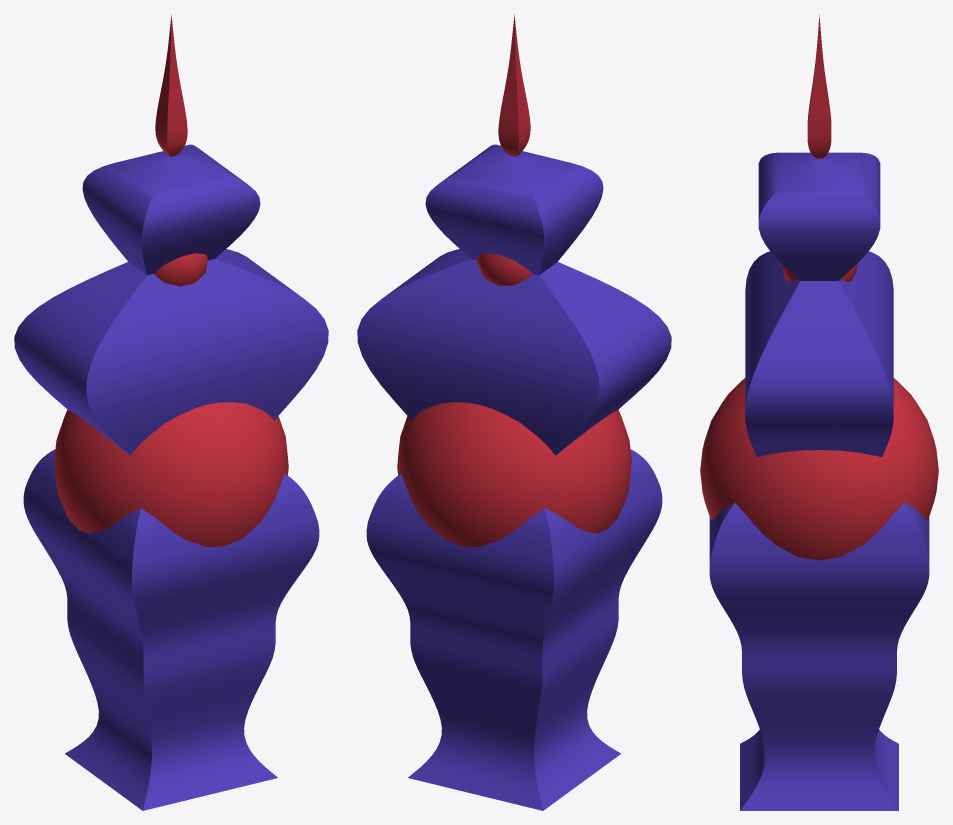
The model's file is prototype_figure.fbx.
3 views of the same model, side by side, from view 1: azimuth 30°, elevation 25°; view 2: azimuth 150°, elevation 25°; view 3: azimuth 270°, elevation 25° (orthographic).
Parts seen in each view (by area): view 1: figure_merge; view 2: figure_merge; view 3: figure_merge.
Part boxes in pixels (x1,y1,x2,y2): figure_merge: (14,14,328,810); figure_merge: (357,14,671,810); figure_merge: (700,14,938,810).
Size of the model in its own units: 0.3377 by 1 by 0.2833.
